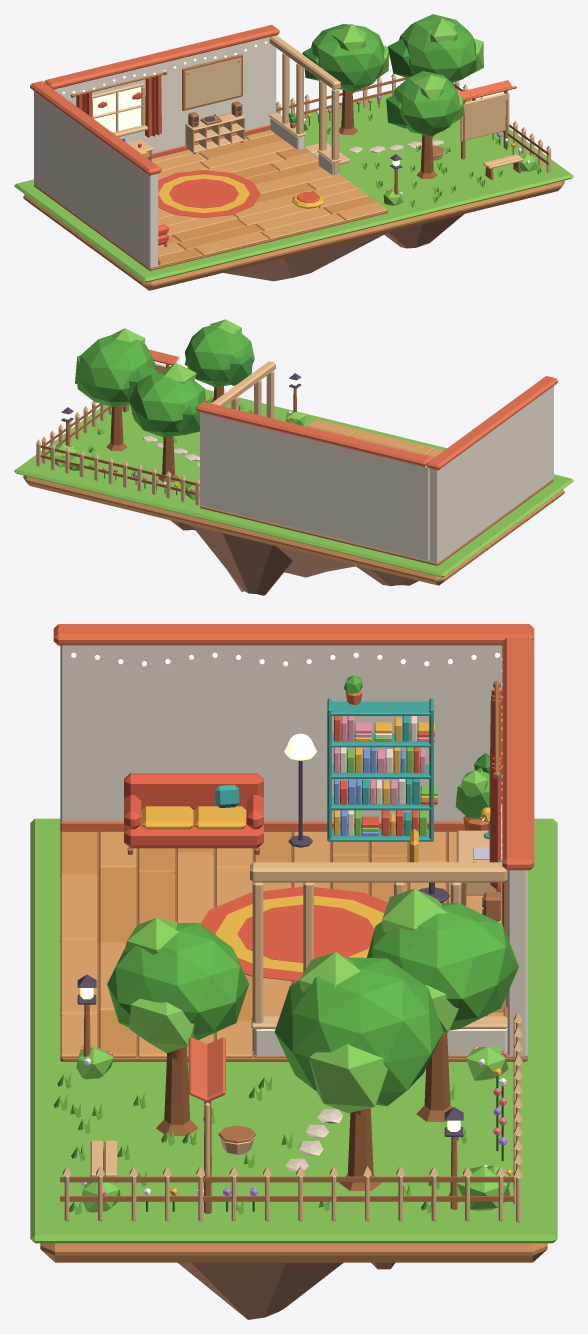
The model's file is diorama.glb.
The picture shows the model from 3 angles, top to bottom: view 1: azimuth 30°, elevation 25°; view 2: azimuth 150°, elevation 25°; view 3: azimuth 270°, elevation 25°; orthographic projection. The views are drawn at different scales.
Visible parts, largest first — view 1: Island, Room_Floor, Wall_Left, Wall_Back, Wall_Trim, Tree_2_Canopy, Wall_Partition, Tree_1_Canopy, Rug, Tree_3_Canopy, Project_Board, Job_Board (+11 smaller); view 2: Island, Wall_Back, Wall_Left, Wall_Trim, Tree_2_Canopy, Tree_1_Canopy, Tree_3_Canopy, Fence, Room_Floor, Wall_Partition, Bushes, Tree_2_Trunk (+3 smaller); view 3: Island, Wall_Left, Room_Floor, Wall_Trim, Tree_2_Canopy, Bookshelf, Tree_3_Canopy, Tree_1_Canopy, Wall_Partition, Fence, Sofa, Rug (+16 smaller).
Boxes of the visible parts, box(x1,y1,x2,y2) form: Island: box(14, 93, 573, 290); Room_Floor: box(34, 129, 387, 270); Wall_Left: box(34, 91, 158, 267); Wall_Back: box(54, 36, 276, 153); Wall_Trim: box(30, 25, 279, 264); Tree_2_Canopy: box(388, 14, 483, 82); Wall_Partition: box(268, 35, 341, 175); Tree_1_Canopy: box(302, 23, 389, 91); Rug: box(158, 170, 260, 217); Tree_3_Canopy: box(386, 71, 464, 136); Project_Board: box(182, 54, 242, 110); Job_Board: box(457, 80, 516, 159); Island: box(14, 389, 573, 595); Wall_Back: box(200, 412, 429, 561); Wall_Left: box(429, 386, 553, 563); Wall_Trim: box(196, 376, 557, 470); Tree_2_Canopy: box(75, 328, 158, 406); Tree_1_Canopy: box(129, 363, 206, 437); Tree_3_Canopy: box(185, 319, 254, 387); Fence: box(36, 361, 199, 505); Room_Floor: box(200, 419, 553, 565); Wall_Partition: box(211, 361, 275, 418); Bushes: box(50, 411, 305, 499); Tree_2_Trunk: box(106, 405, 127, 450); Island: box(30, 818, 557, 1319); Wall_Left: box(60, 645, 502, 832); Room_Floor: box(60, 831, 527, 1061); Wall_Trim: box(53, 624, 534, 1017); Tree_2_Canopy: box(274, 952, 443, 1113); Bookshelf: box(327, 675, 437, 841); Tree_3_Canopy: box(107, 918, 248, 1053); Tree_1_Canopy: box(367, 888, 518, 1035); Wall_Partition: box(250, 862, 507, 1055); Fence: box(60, 1012, 522, 1222); Sofa: box(124, 773, 263, 854); Rug: box(200, 886, 387, 981).
Size of the model in its own units: 14.9 by 7.37 by 7.9.
